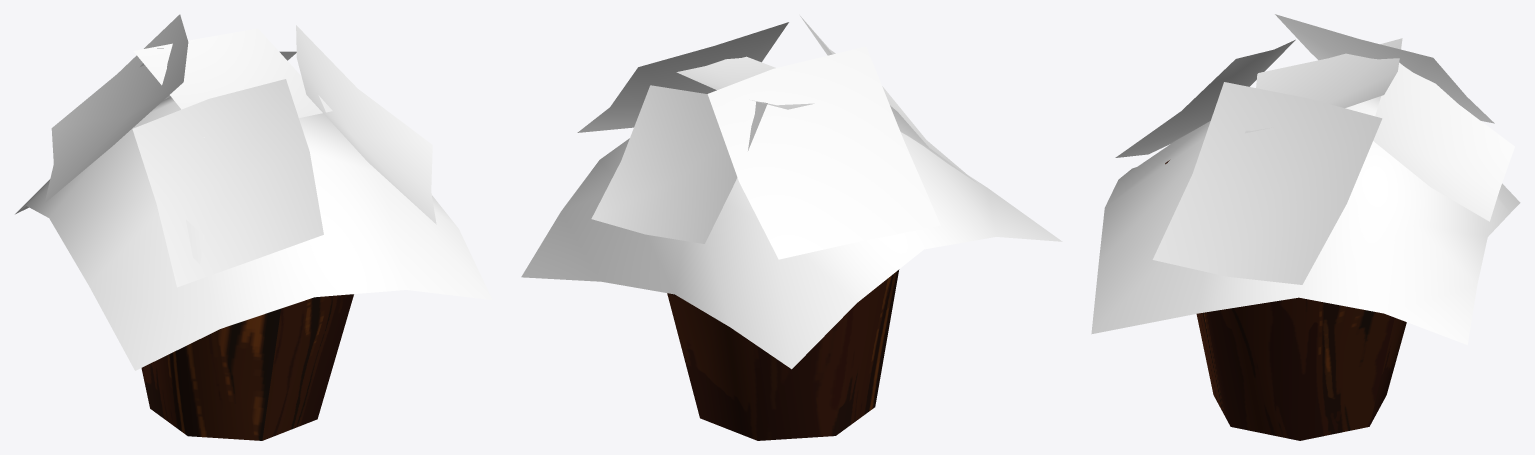
File: SM_PROP_PLANT_pot_v2_04.fbx
The picture shows the model from 3 angles, left to right: view 1: azimuth 30°, elevation 25°; view 2: azimuth 150°, elevation 25°; view 3: azimuth 270°, elevation 25°; orthographic projection. The views are drawn at different scales.
Visible parts, largest first — view 1: SM_PROP_PLANT_pot_v2_04; view 2: SM_PROP_PLANT_pot_v2_04; view 3: SM_PROP_PLANT_pot_v2_04.
Part boxes in pixels (x1=…): SM_PROP_PLANT_pot_v2_04: x1=15, y1=14, x2=492, y2=440; SM_PROP_PLANT_pot_v2_04: x1=521, y1=16, x2=1062, y2=440; SM_PROP_PLANT_pot_v2_04: x1=1091, y1=14, x2=1520, y2=440.
Size of the model in its own units: 77.24 by 67.58 by 73.68.
